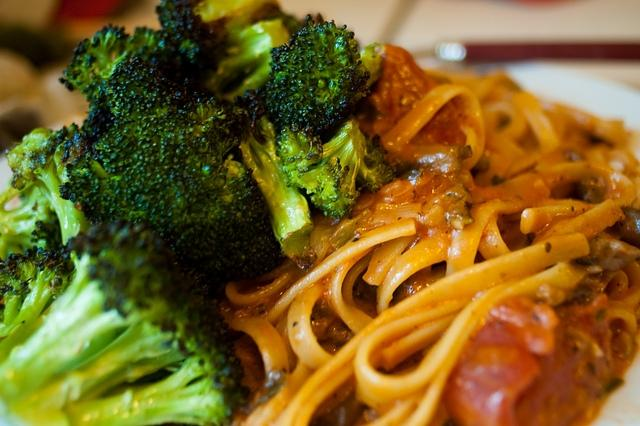broccoli: (0, 220, 249, 426), (159, 84, 316, 254), (58, 106, 230, 238), (262, 13, 384, 139), (153, 1, 290, 103), (276, 116, 396, 218), (5, 123, 90, 246), (1, 244, 77, 365), (58, 23, 133, 103), (100, 58, 190, 119)
tomato: (441, 319, 542, 426), (370, 42, 468, 147), (490, 294, 561, 358)
